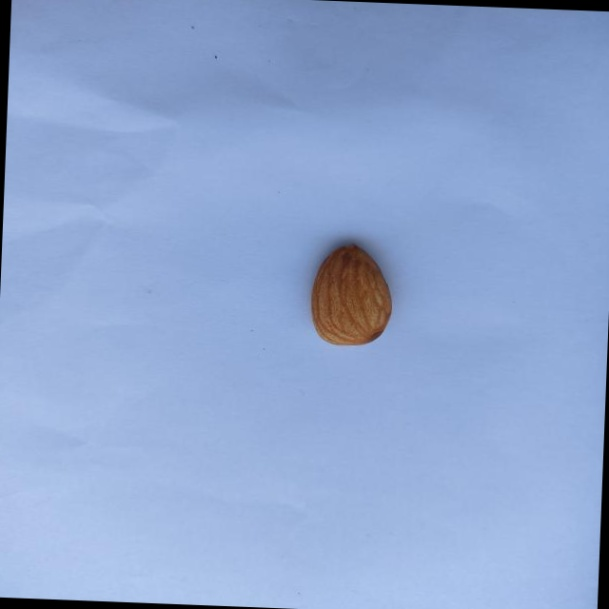grade1: (300, 235, 401, 354)
